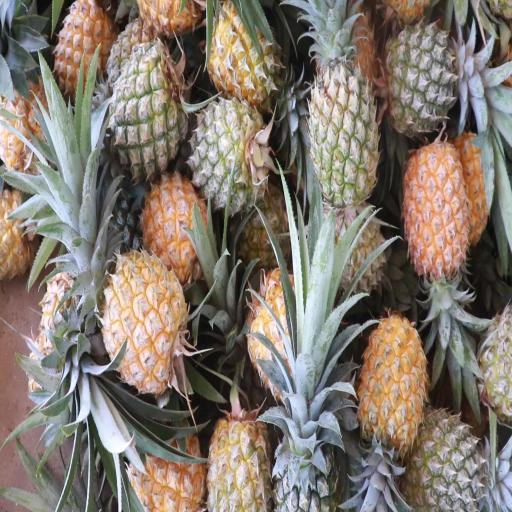Pineapple - v8 v1: (103, 243, 194, 400), (360, 308, 431, 459), (403, 139, 471, 292), (142, 173, 218, 293), (206, 4, 283, 116), (55, 5, 121, 128), (208, 416, 278, 512)
